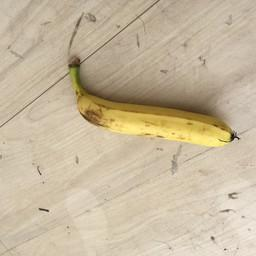Banana Ripe: (62, 48, 243, 155)
